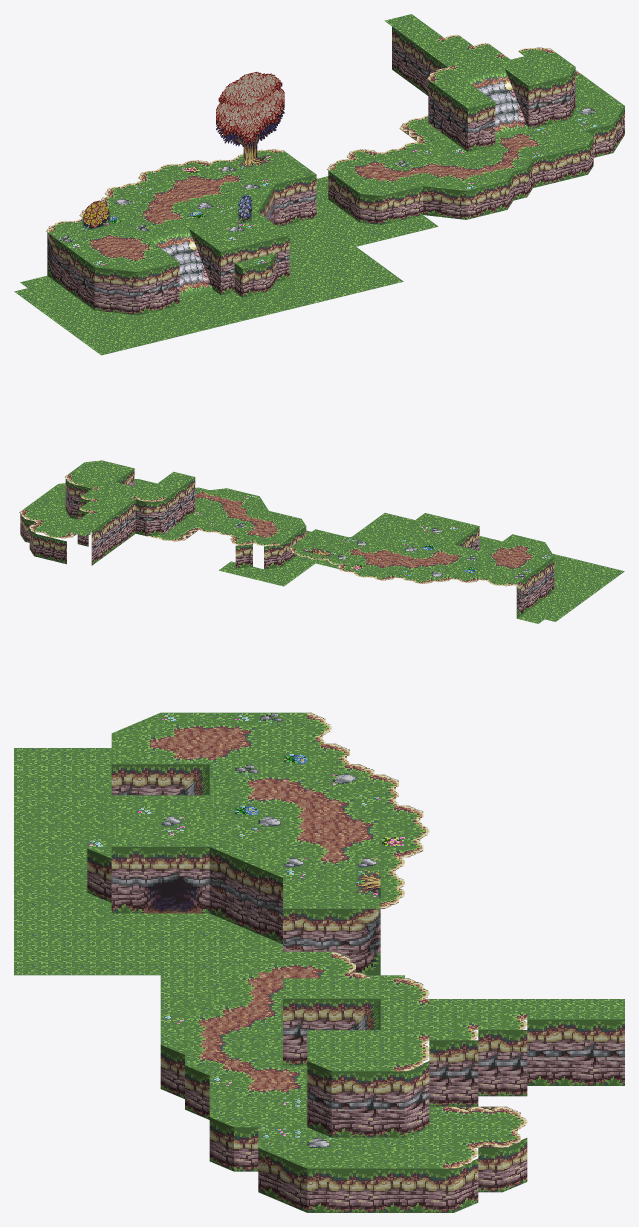
File: Playground.gltf
The picture shows the model from 3 angles, top to bottom: view 1: azimuth 30°, elevation 25°; view 2: azimuth 150°, elevation 25°; view 3: azimuth 270°, elevation 25°; orthographic projection. The views are drawn at different scales.
Parts seen in each view (by area): view 1: ground-col, default; view 2: ground-col; view 3: ground-col.
Part boxes in pixels (bbox=[...]): ground-col: bbox=[14, 14, 624, 355]; default: bbox=[82, 194, 251, 231]; ground-col: bbox=[19, 460, 624, 623]; ground-col: bbox=[14, 712, 624, 1212].
Bounding box in the file's own units: 45 × 19 × 25.
1 material, 1 textured.
